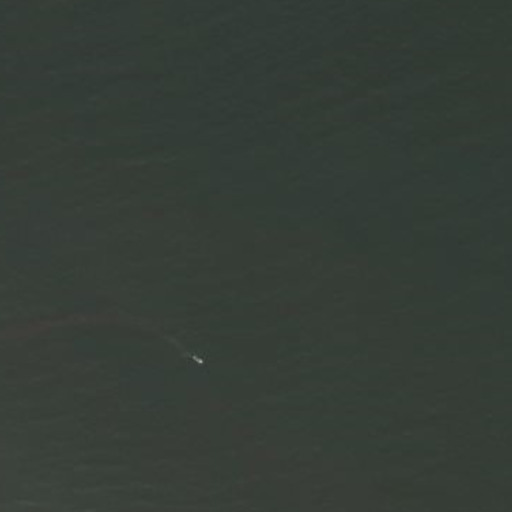ship: (187, 351, 208, 367)
